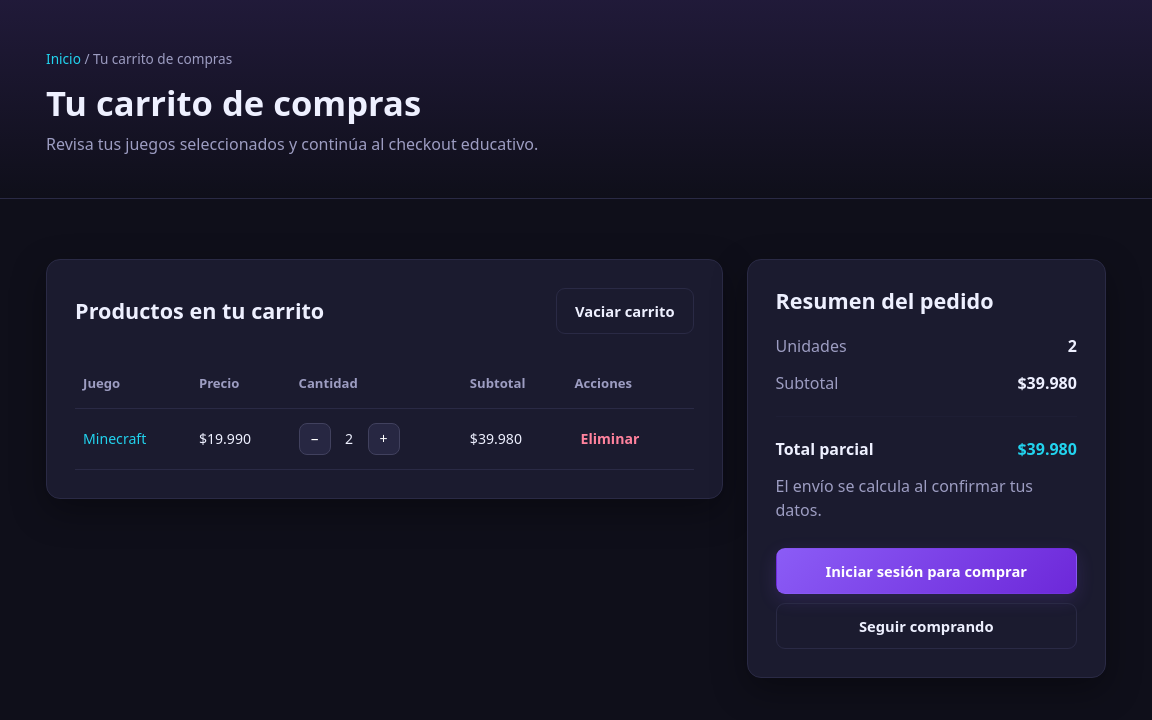
Test case: Chromium: carrito de compras › PF-11: botón + aumenta cantidad
Click the button named "Aumentar Minecraft" at (384, 439), box [368,423,400,455]
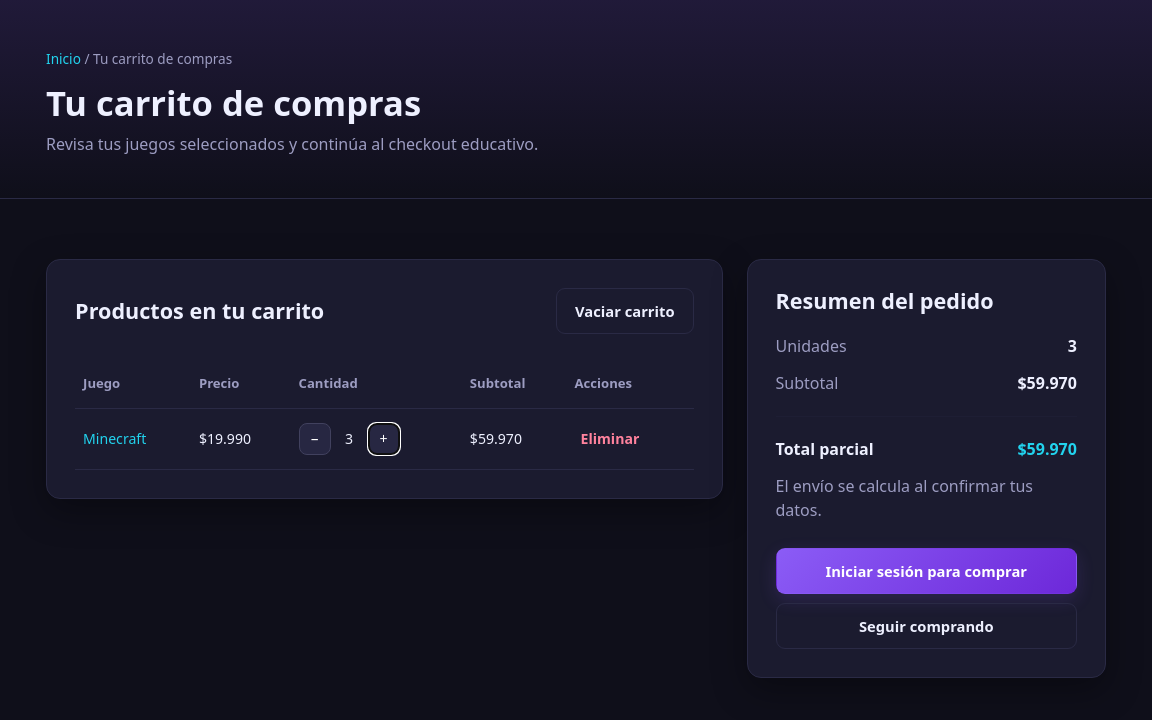
Expected: the text named "Cantidad de Minecraft" reads "3", [345,429,353,448]
